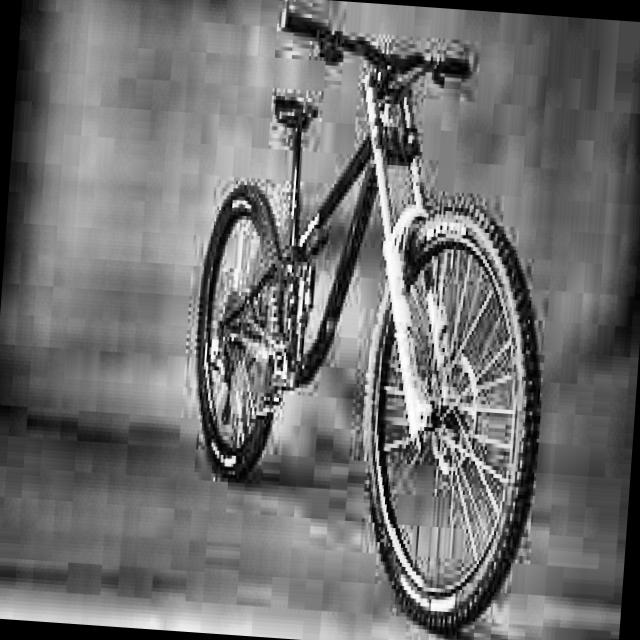bicycle: (168, 0, 574, 640)
